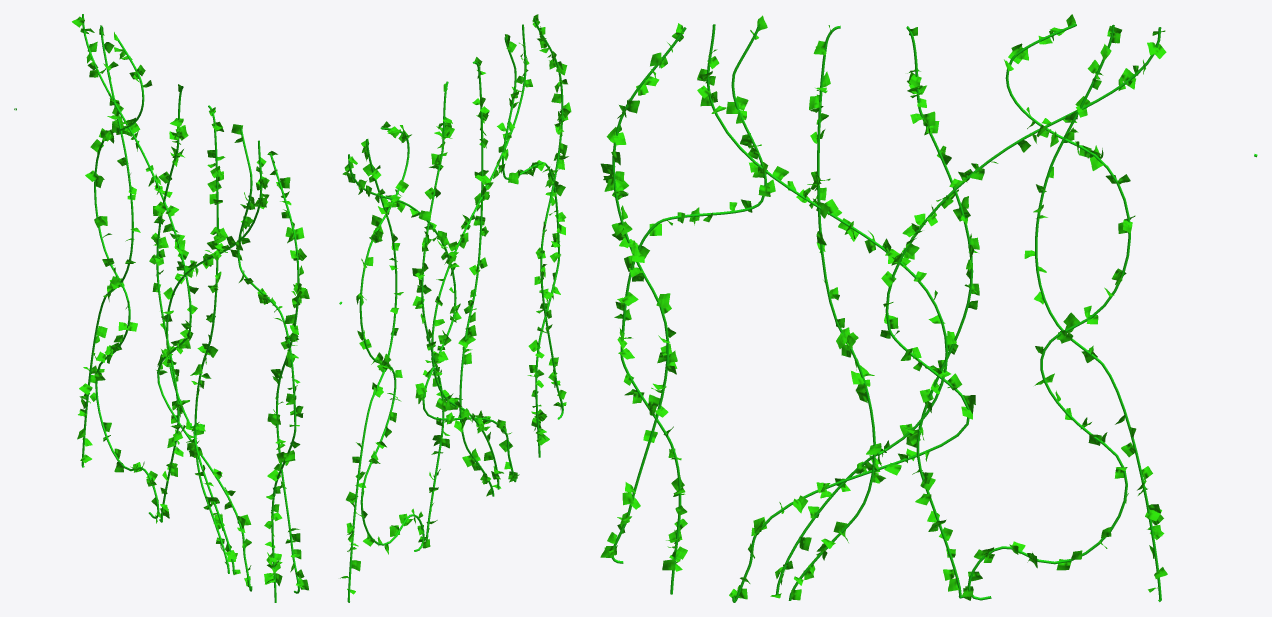
File: vine1.fbx
3 renders of one model, left to right at view 1: azimuth 30°, elevation 25°; view 2: azimuth 150°, elevation 25°; view 3: azimuth 270°, elevation 25°, orthographic. The views are drawn at different scales.
Parts seen in each view (by area): view 1: BézierCurve.001; view 2: BézierCurve.001; view 3: BézierCurve.001.
Boxes of the visible parts, x1=… form: BézierCurve.001: x1=14, y1=14, x2=309, y2=602; BézierCurve.001: x1=339, y1=14, x2=571, y2=602; BézierCurve.001: x1=600, y1=14, x2=1257, y2=602.
Size of the model in its own units: 56.26 by 596 by 605.
